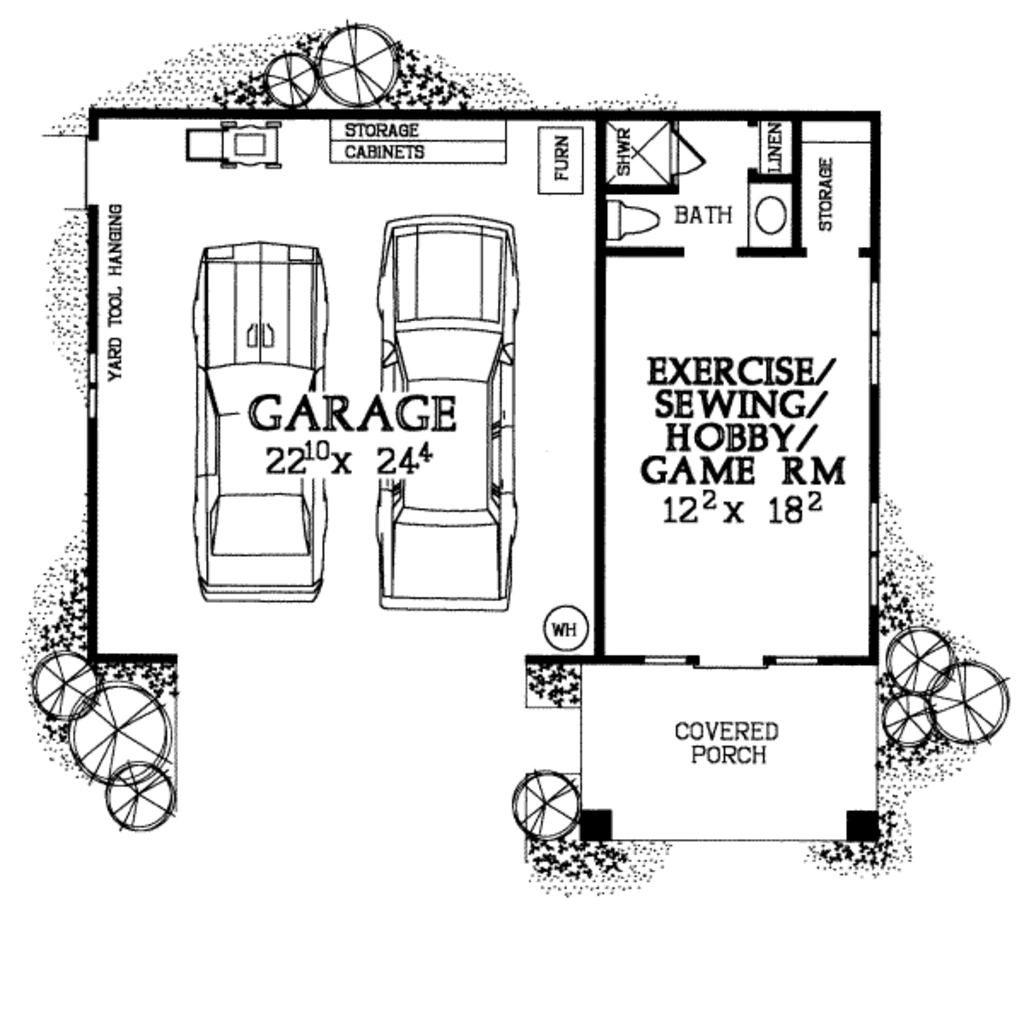large_sink: (605, 188, 689, 253)
small_sink: (737, 176, 795, 245)
window: (865, 344, 886, 384), (88, 354, 100, 424), (869, 499, 882, 556), (869, 276, 877, 341), (872, 554, 875, 601)
